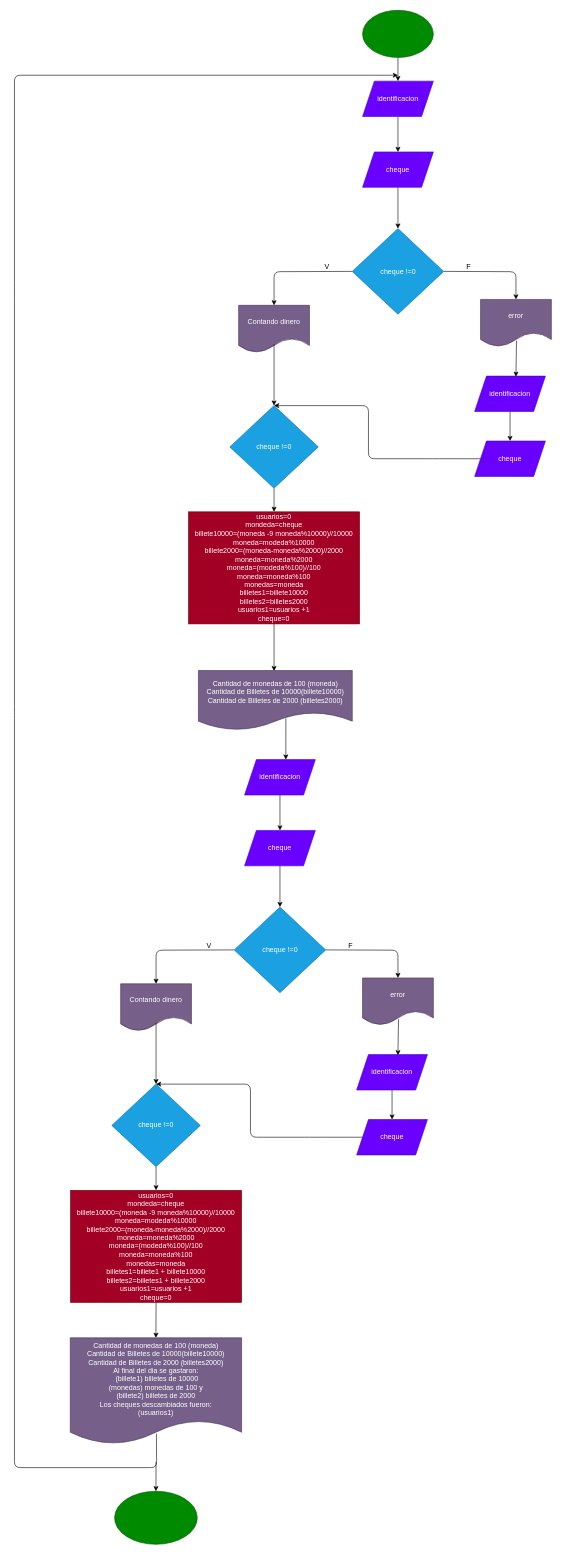
Some shapes in this 562 by 1555 pixel diagram are drawn without their labels. The box of each missing label's shape, as (x1, y1, x2, y2) in pixels:
Fin: (114, 1491, 197, 1544)
Inicio: (362, 10, 433, 58)
